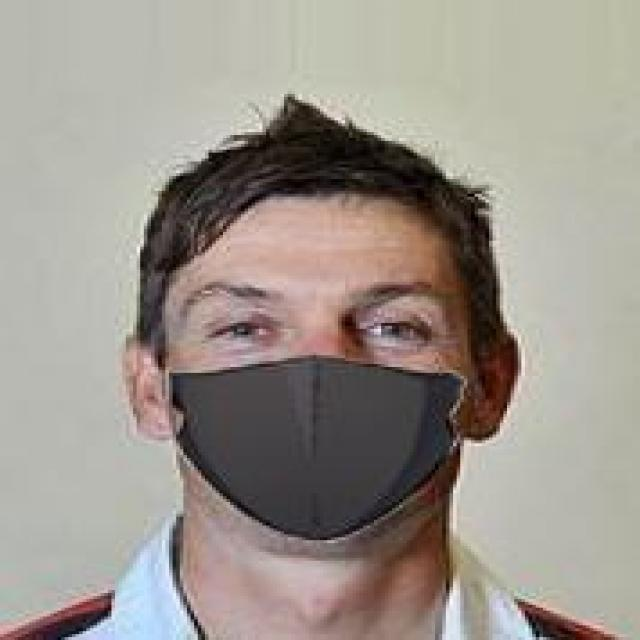mask: (90, 121, 510, 578)
